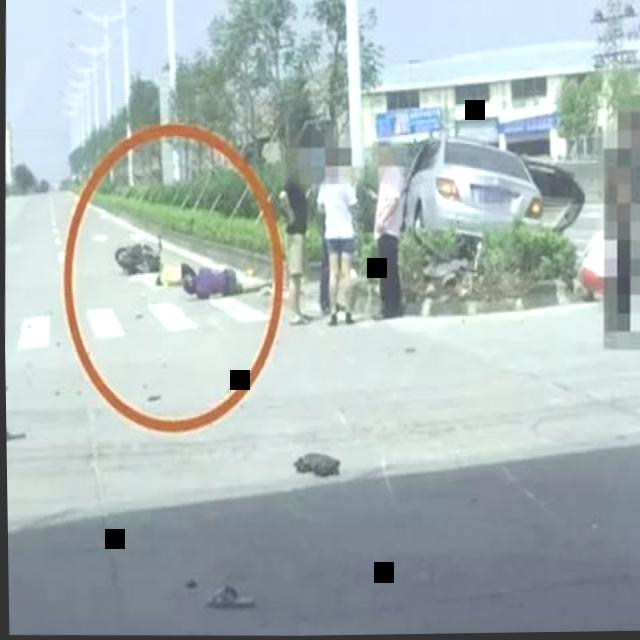Fall-Detected: (166, 243, 281, 307)
